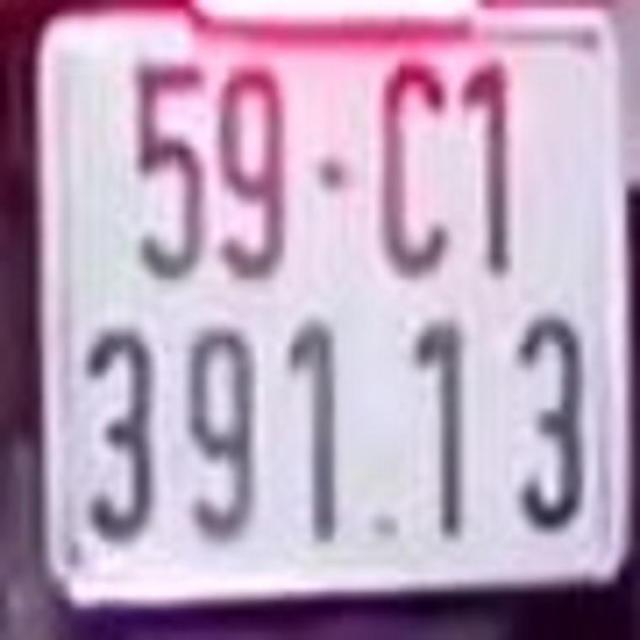1: (464, 51, 521, 271), (416, 312, 466, 537), (290, 317, 338, 538)
3: (82, 325, 156, 538), (516, 312, 584, 525)
5: (133, 63, 198, 280)
9: (188, 316, 257, 540), (216, 61, 283, 286)
C: (381, 58, 448, 276)
